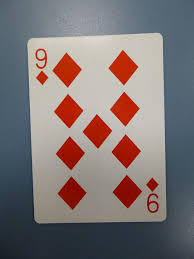nine of diamonds: (28, 32, 168, 223)
